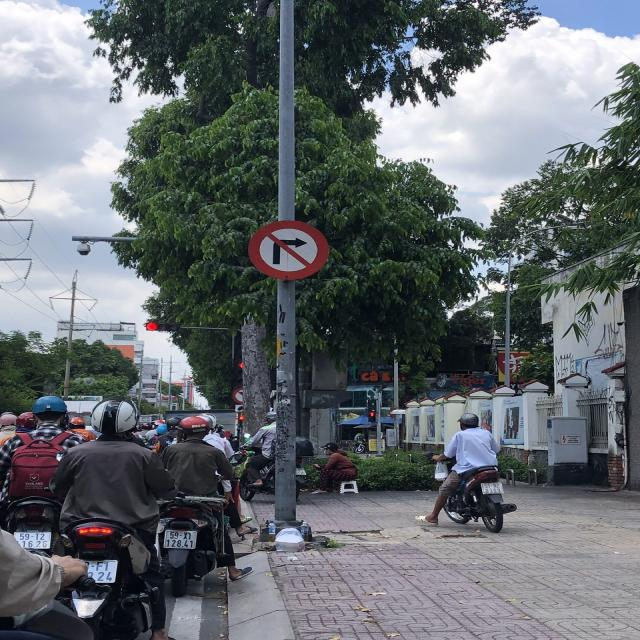Bien bao cam re phai: (244, 218, 332, 285)
